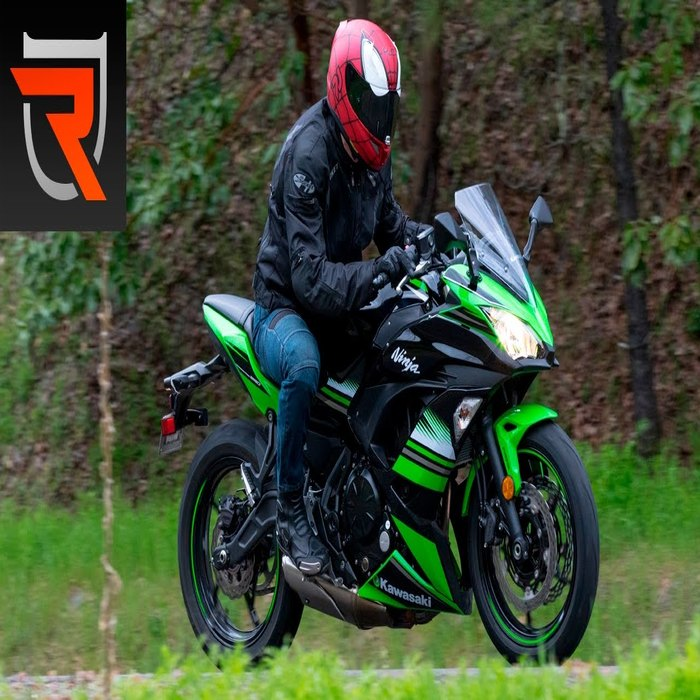h: (328, 18, 402, 173)
